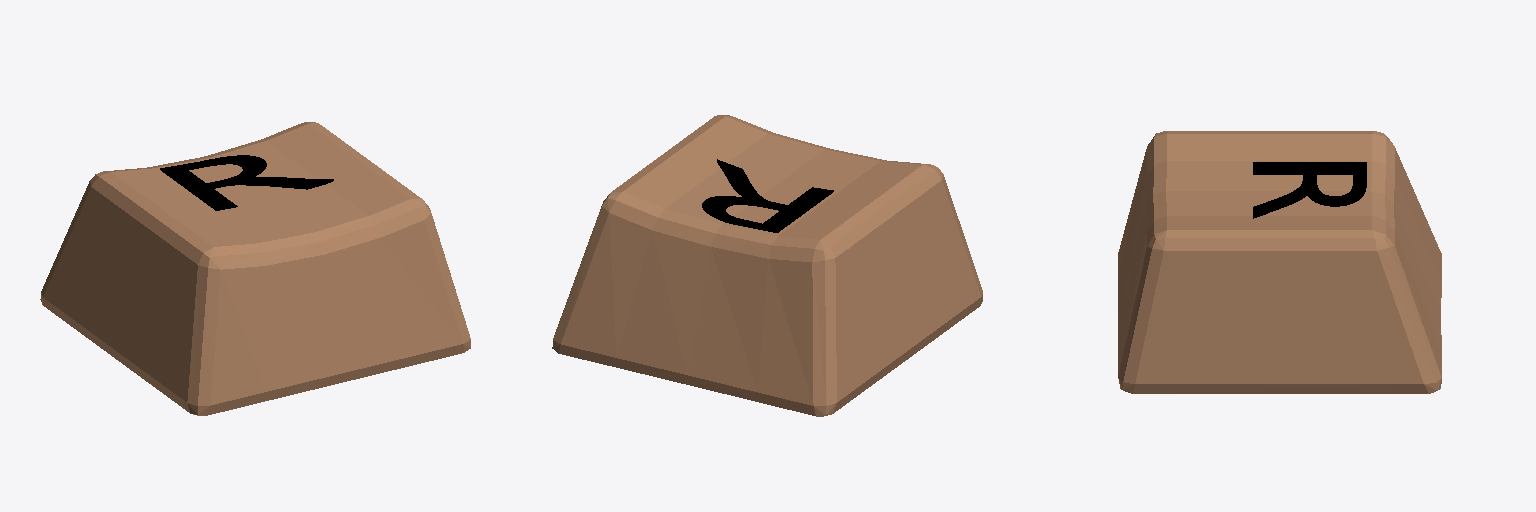
File: rkey.obj
3 views of the same model, side by side, from view 1: azimuth 30°, elevation 25°; view 2: azimuth 150°, elevation 25°; view 3: azimuth 270°, elevation 25° (orthographic).
Parts seen in each view (by area): view 1: Cube_Cube.001, Text; view 2: Cube_Cube.001, Text; view 3: Cube_Cube.001, Text.
Part boxes in pixels (left/top/right/bottom): Cube_Cube.001: left=40, top=122, right=470, bottom=415; Text: left=160, top=155, right=333, bottom=210; Cube_Cube.001: left=552, top=115, right=982, bottom=416; Text: left=702, top=159, right=833, bottom=232; Cube_Cube.001: left=1118, top=131, right=1441, bottom=393; Text: left=1253, top=162, right=1366, bottom=218.
Size of the model in its own units: 1.96 by 0.9852 by 1.95.